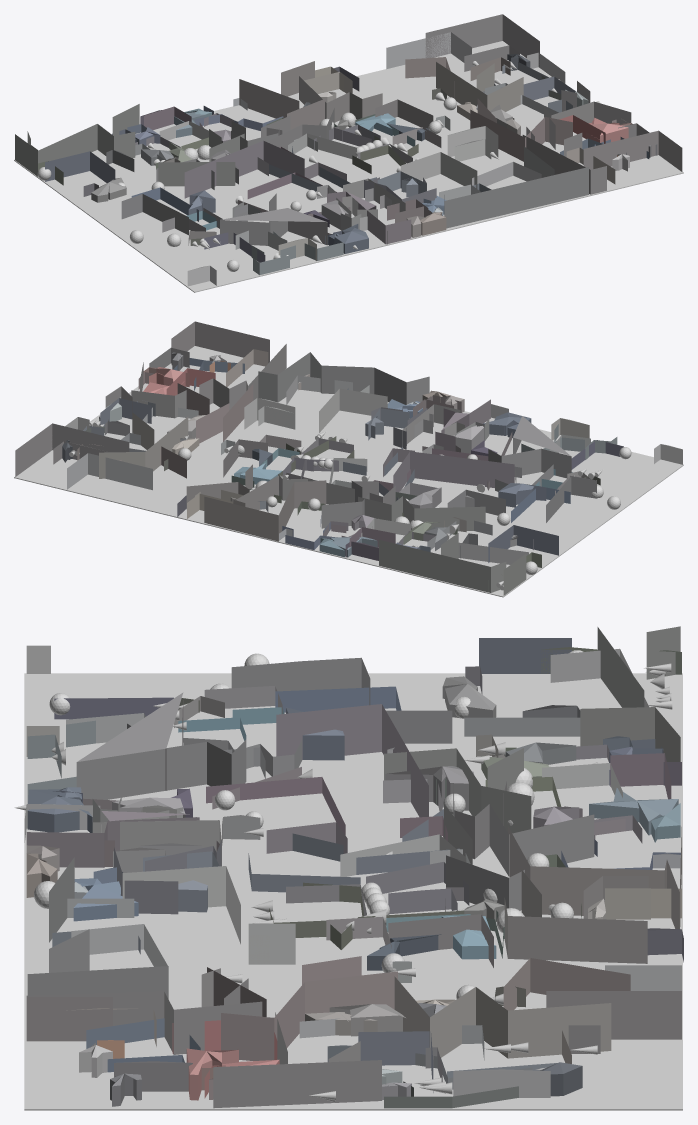
The picture shows the model from 3 angles, top to bottom: view 1: azimuth 30°, elevation 25°; view 2: azimuth 150°, elevation 25°; view 3: azimuth 270°, elevation 25°; orthographic projection. The views are drawn at different scales.
Visible parts, largest first — view 1: Ground_Base, BLD-145, BLD-006, BLD-035, BLD-028, BLD-115, BLD-083, BLD-040, BLD-153, BLD-103, BLD-106, BLD-060 (+45 smaller); view 2: Ground_Base, BLD-006, BLD-145, BLD-035, BLD-083, BLD-115, BLD-028, BLD-060, BLD-153, BLD-103, BLD-040, BLD-017 (+38 smaller); view 3: Ground_Base, BLD-115, BLD-040, BLD-103, BLD-037, BLD-089, BLD-006, BLD-145, BLD-083, BLD-106, BLD-030, BLD-060 (+72 smaller).
Boxes of the visible parts, x1,y1,x2,y2 form: Ground_Base: [14, 41, 683, 292]; BLD-145: [444, 146, 588, 228]; BLD-006: [15, 104, 139, 176]; BLD-035: [239, 61, 326, 129]; BLD-028: [425, 14, 539, 67]; BLD-115: [220, 193, 327, 245]; BLD-083: [184, 140, 304, 198]; BLD-040: [436, 62, 523, 111]; BLD-153: [583, 130, 682, 171]; BLD-103: [470, 98, 572, 161]; BLD-106: [522, 118, 606, 194]; BLD-060: [158, 129, 244, 186]; Ground_Base: [14, 346, 683, 597]; BLD-006: [379, 533, 526, 595]; BLD-145: [258, 352, 429, 404]; BLD-035: [204, 480, 326, 541]; BLD-083: [393, 451, 514, 492]; BLD-115: [488, 416, 571, 478]; BLD-028: [15, 423, 129, 476]; BLD-060: [358, 496, 485, 531]; BLD-153: [171, 321, 269, 362]; BLD-103: [177, 383, 253, 443]; BLD-040: [99, 412, 188, 478]; BLD-017: [67, 453, 152, 490]; Ground_Base: [24, 673, 682, 1110]; BLD-115: [76, 692, 246, 799]; BLD-040: [394, 976, 611, 1058]; BLD-103: [207, 956, 397, 1060]; BLD-037: [504, 870, 648, 963]; BLD-089: [213, 1012, 381, 1108]; BLD-006: [580, 626, 680, 761]; BLD-145: [27, 857, 168, 998]; BLD-083: [276, 704, 428, 817]; BLD-106: [26, 968, 262, 1054]; BLD-030: [453, 781, 594, 876]; BLD-060: [384, 748, 531, 833].
Bounding box in the file's own units: 244 × 18.76 × 157.
